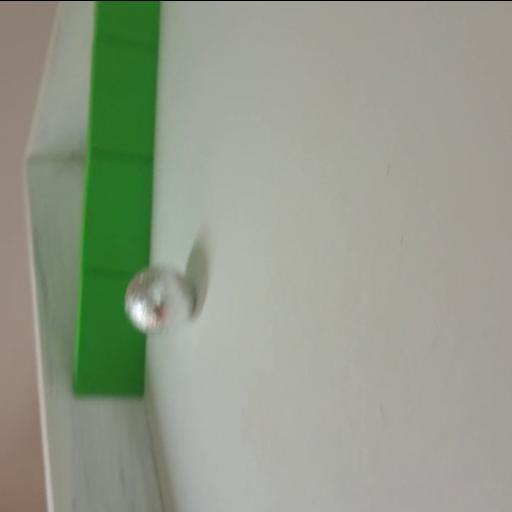alive: (124, 266, 194, 332)
